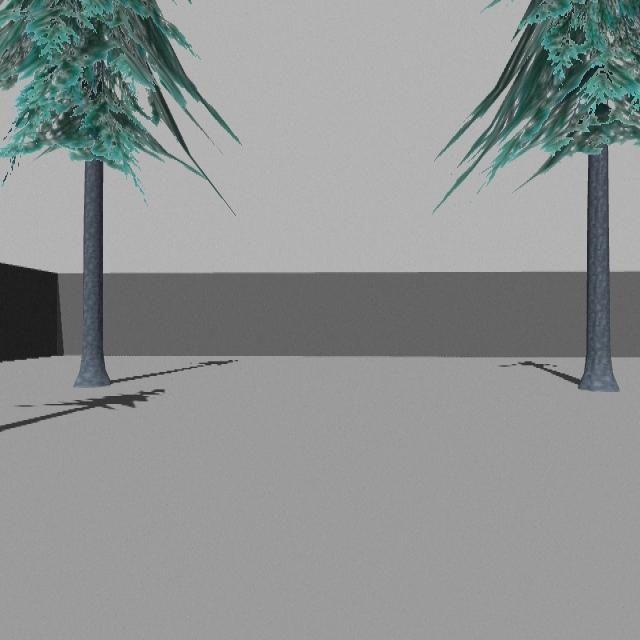tree: (446, 0, 640, 393)
